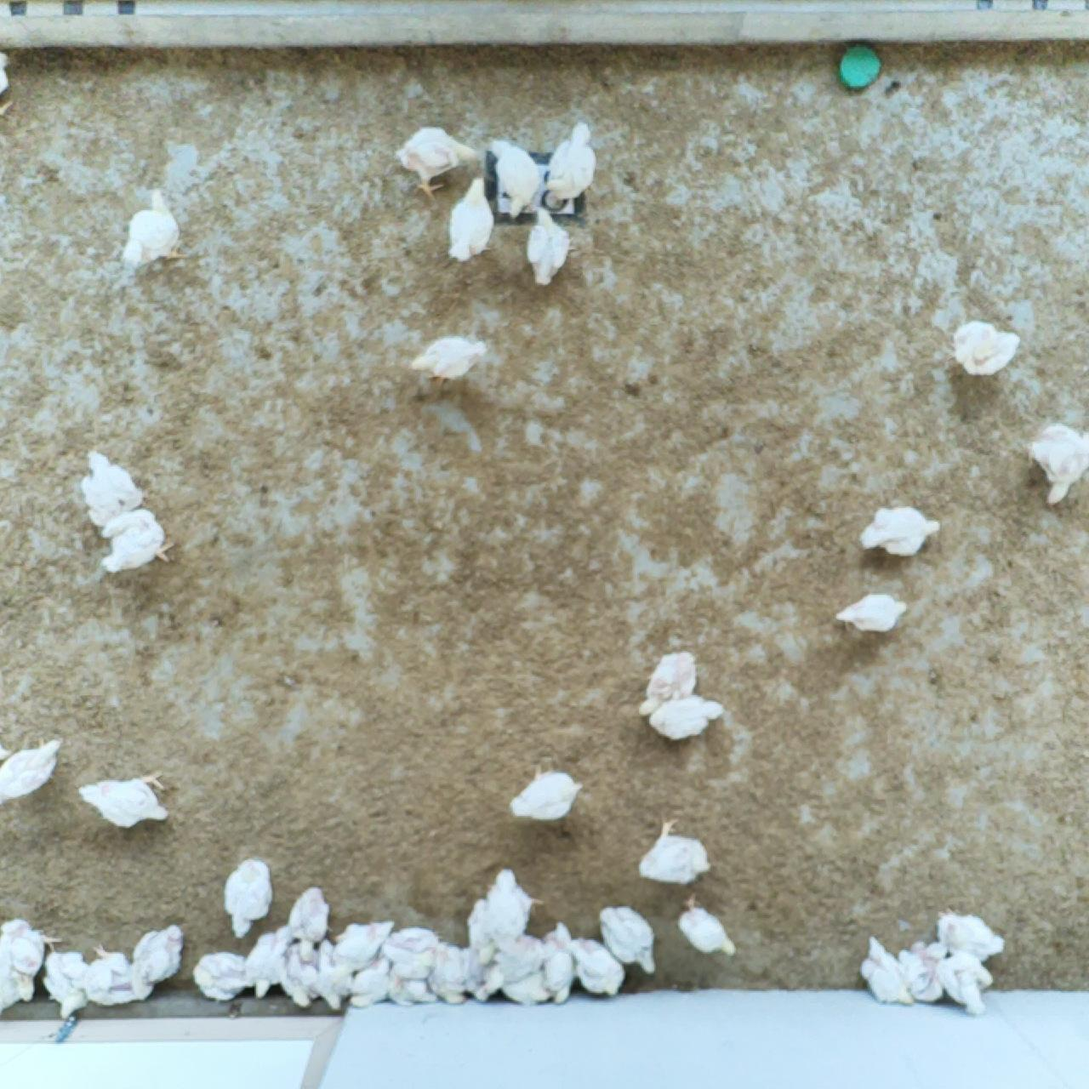chicken: (391, 121, 479, 201), (73, 762, 172, 832), (632, 815, 718, 889), (408, 326, 495, 399), (119, 180, 188, 269), (1022, 417, 1089, 507), (77, 444, 148, 527), (93, 505, 178, 574), (444, 173, 503, 272), (485, 132, 543, 227), (543, 116, 602, 208), (853, 503, 945, 561), (506, 756, 588, 821), (592, 897, 659, 975), (633, 648, 703, 722), (483, 862, 547, 942), (220, 853, 277, 941), (131, 921, 191, 1003), (0, 729, 70, 799), (676, 889, 741, 962), (858, 928, 915, 1009), (936, 945, 996, 1020), (948, 318, 1024, 377), (524, 203, 574, 292), (80, 944, 147, 1008), (479, 933, 544, 998), (332, 915, 399, 978), (286, 881, 335, 967), (831, 589, 913, 640), (934, 901, 1008, 957), (646, 693, 728, 743), (567, 935, 628, 998), (40, 946, 94, 1017), (243, 926, 291, 1001), (192, 944, 252, 1003), (0, 915, 58, 971), (540, 922, 577, 1005), (900, 934, 944, 1001), (314, 936, 352, 1013), (281, 938, 321, 1011), (503, 967, 574, 1007), (423, 937, 465, 1003), (349, 955, 391, 1010), (467, 898, 499, 965), (378, 942, 432, 980), (456, 944, 490, 1001), (388, 977, 440, 1011), (386, 922, 443, 953), (0, 969, 35, 1006)
